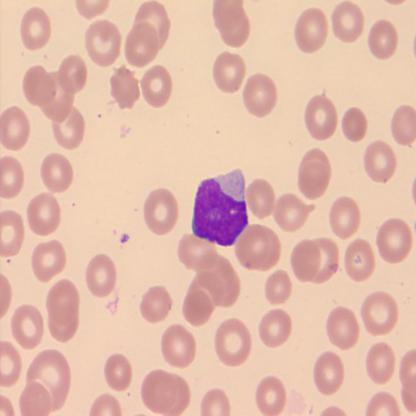Blast: (190, 166, 252, 250)
